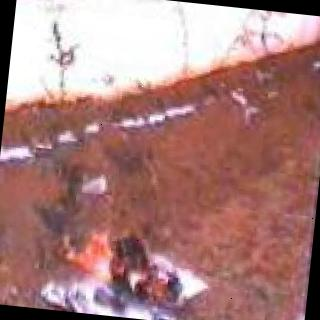fire: (48, 216, 191, 320)
